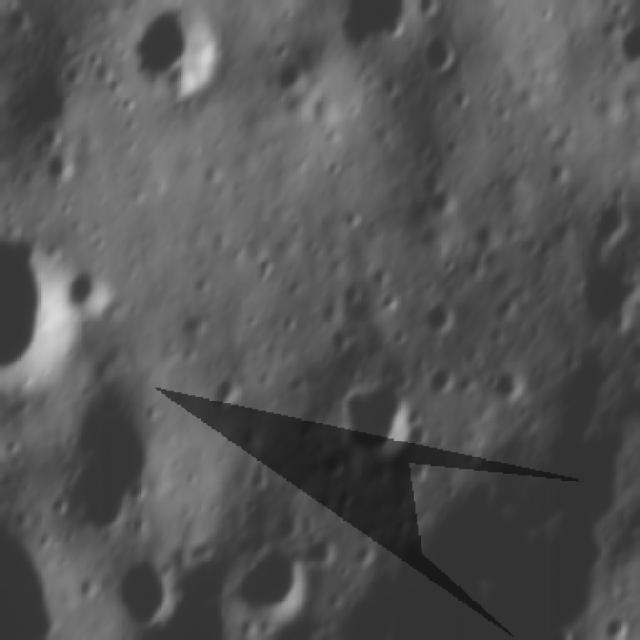crater: (59, 352, 172, 551), (0, 486, 91, 640), (111, 1, 229, 110), (0, 226, 74, 379), (338, 370, 431, 464), (222, 536, 312, 626), (100, 547, 186, 640), (7, 67, 84, 148), (571, 264, 640, 330), (331, 0, 414, 51), (66, 257, 119, 321), (580, 192, 637, 248), (418, 24, 468, 84), (480, 365, 538, 409), (31, 140, 80, 189), (206, 363, 249, 417), (412, 298, 460, 344), (301, 527, 337, 573), (273, 52, 307, 100), (468, 216, 506, 258), (426, 176, 465, 216), (425, 358, 457, 404), (617, 10, 640, 67), (41, 0, 79, 9), (0, 0, 18, 12)
